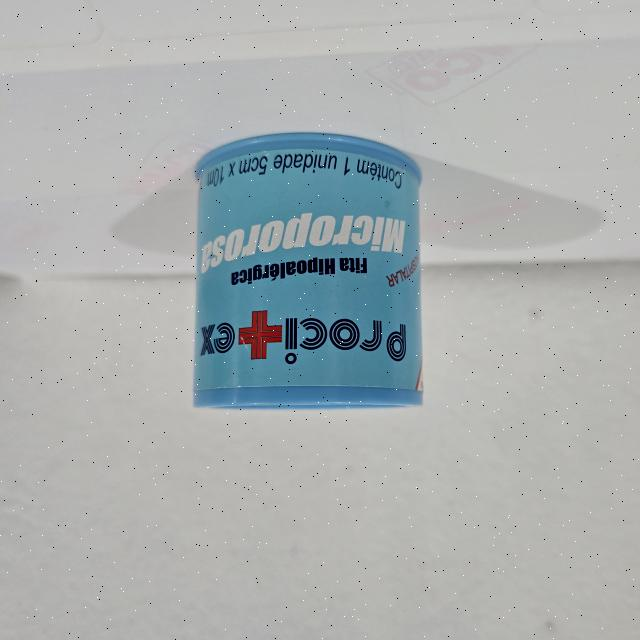procitex: (188, 129, 430, 416)
